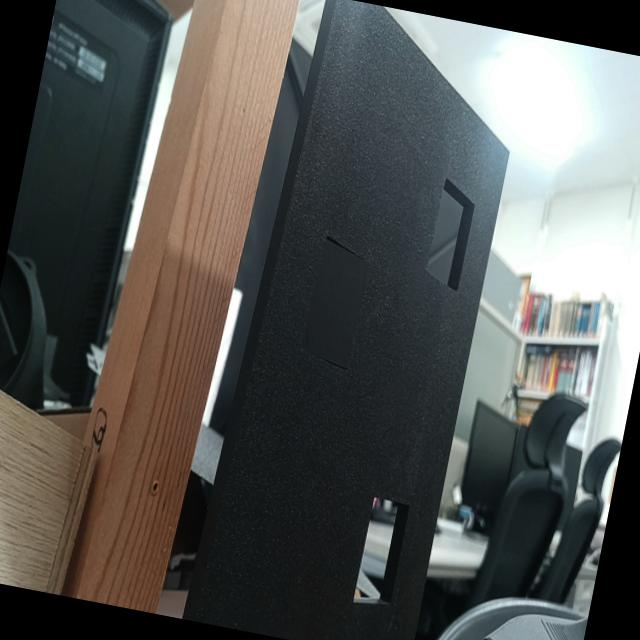Obstacle: (353, 496, 409, 604), (425, 177, 475, 289)
Wall: (197, 0, 510, 640)
